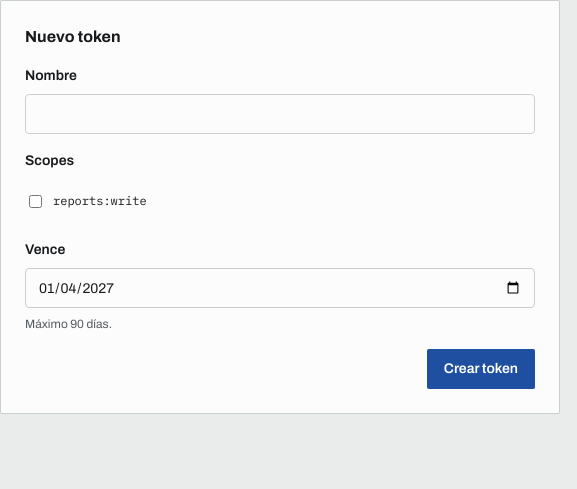
Test: TokenCreateForm (WO-580, SDD-056) › asks for a name and a scope before it sends anything, and says which
What coordinates should you click on to do the following:
click the button "Crear token"
I would click on:
 (481, 369)
Its box is [427,349,535,389].
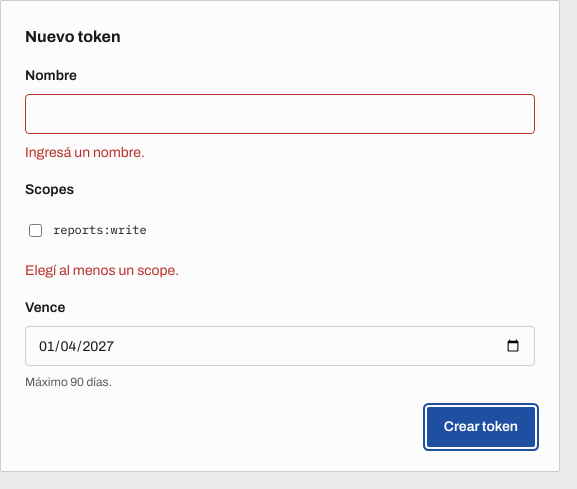
expect the text "Ingresá un nombre." is shown: met, box [25,145,145,160]
expect the text "Elegí al menos un scope." is shown: met, box [25,263,179,278]
